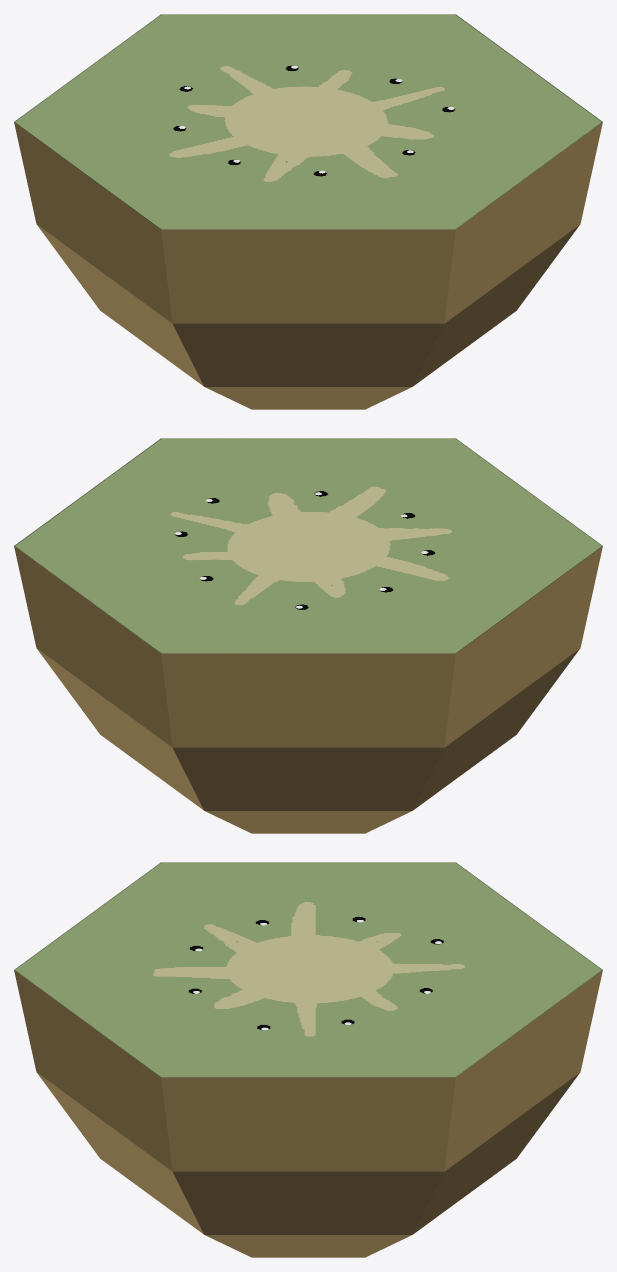
File: kiwi.fbx
3 renders of one model, top to bottom at view 1: azimuth 30°, elevation 25°; view 2: azimuth 150°, elevation 25°; view 3: azimuth 270°, elevation 25°, orthographic.
Parts seen in each view (by area): view 1: Sphere; view 2: Sphere; view 3: Sphere.
Part boxes in pixels (x1=…): Sphere: x1=14, y1=14, x2=602, y2=409; Sphere: x1=14, y1=438, x2=602, y2=833; Sphere: x1=14, y1=862, x2=602, y2=1257.
Size of the model in its own units: 173 by 100 by 200.
